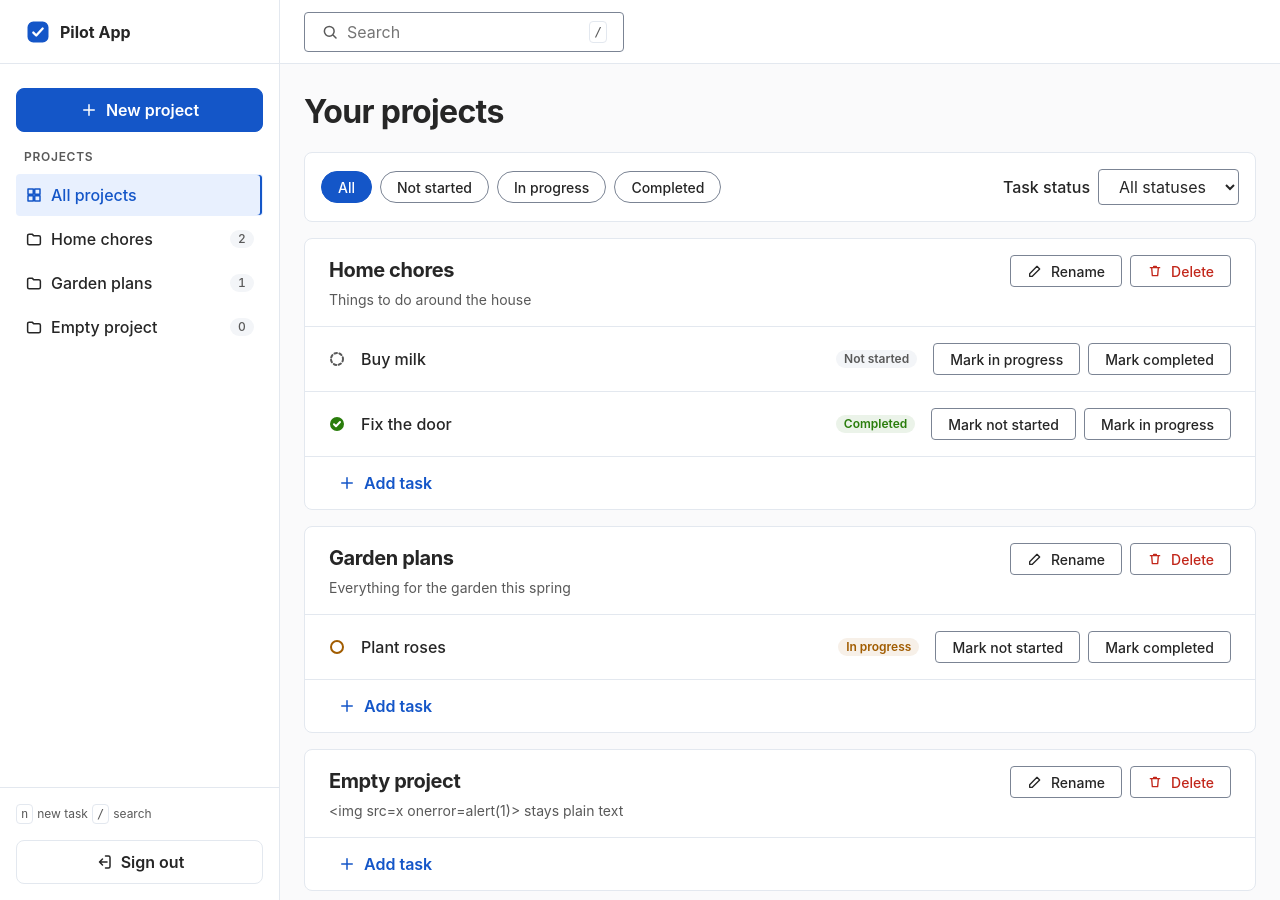
Test case: Dashboard › deleting a project that still has tasks keeps it and explains why
The width and height of the screenshot is (1280, 900).
Click the button with aria-label "Delete Home chores" at (1181, 271), box [1130,255,1231,287]
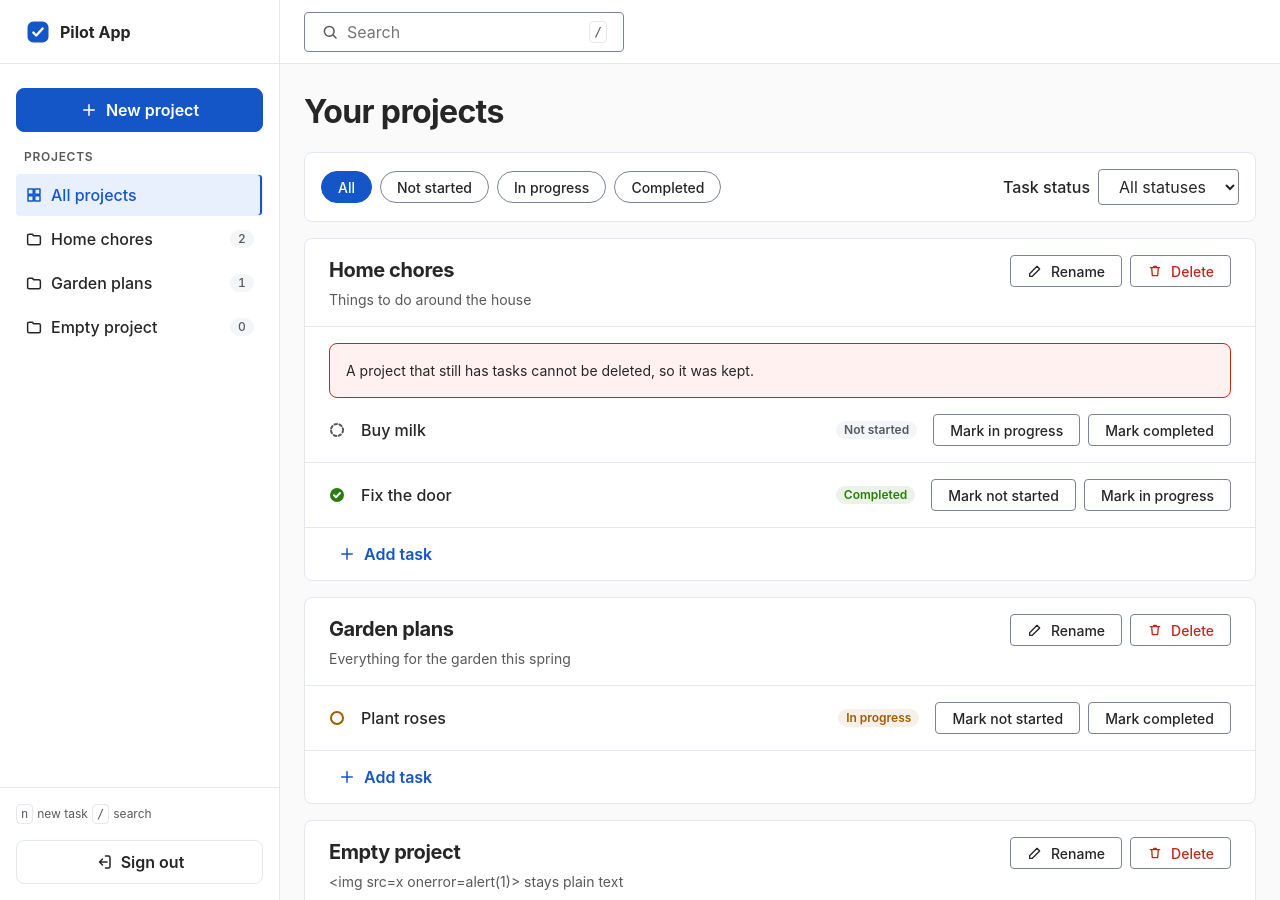
Check: the text "Buy milk" is shown, box [361,420,426,440]
Check: the message reads "A project that still has tasks cannot be deleted, so it was kept.", box [346,362,754,379]
